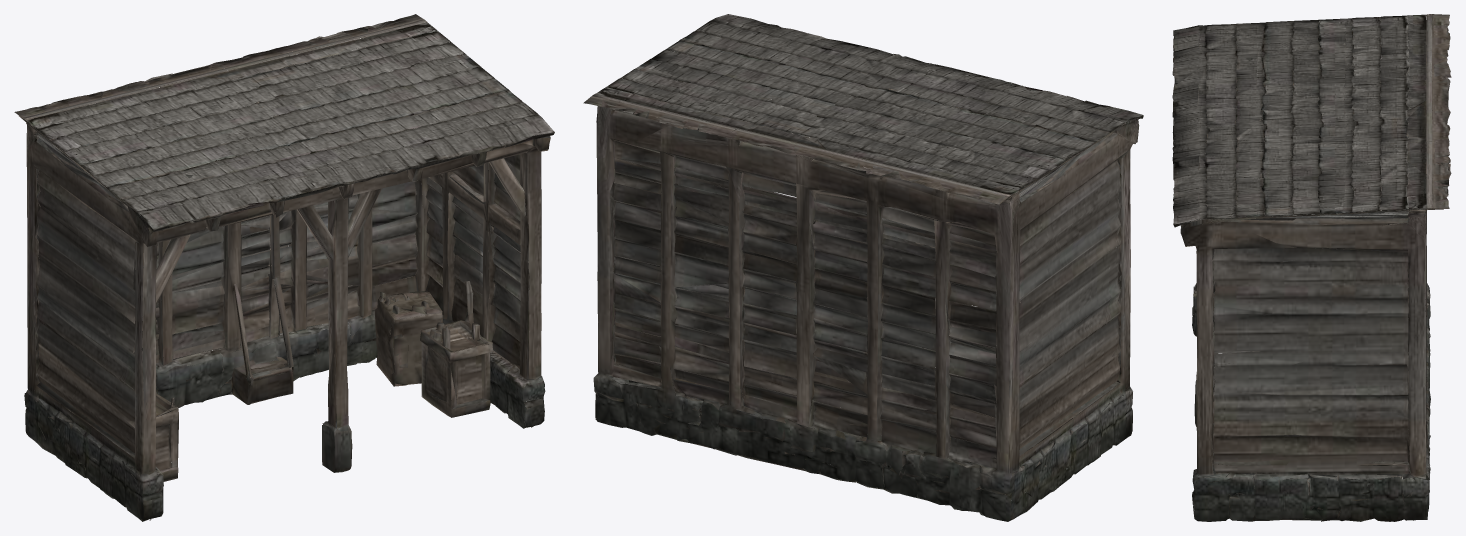
File: infill-lean-to.glb
The picture shows the model from 3 angles, left to right: view 1: azimuth 30°, elevation 25°; view 2: azimuth 150°, elevation 25°; view 3: azimuth 270°, elevation 25°; orthographic projection. The views are drawn at different scales.
Parts seen in each view (by area): view 1: infill-lean-to; view 2: infill-lean-to; view 3: infill-lean-to.
Part boxes in pixels (left/top/right/bottom): infill-lean-to: left=14, top=14, right=554, bottom=521; infill-lean-to: left=583, top=14, right=1143, bottom=521; infill-lean-to: left=1172, top=14, right=1451, bottom=521.
Bounding box in the file's own units: 1.91 × 1.45 × 1.15.
1 material, 1 textured.
